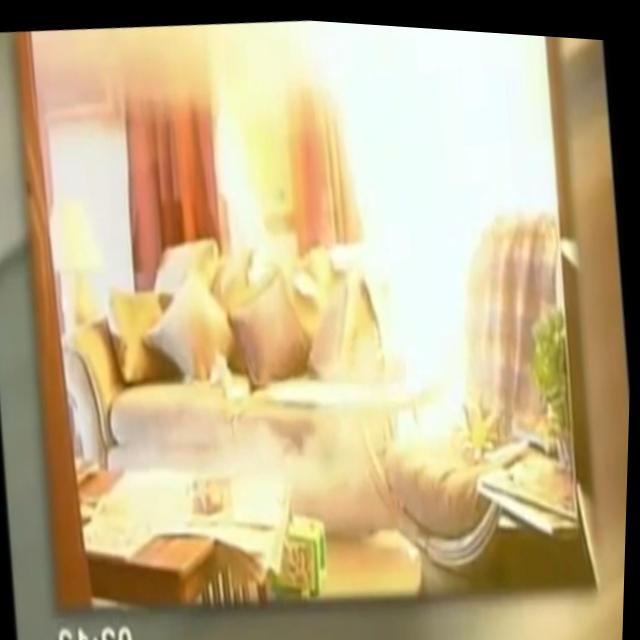fire: (314, 17, 562, 442)
